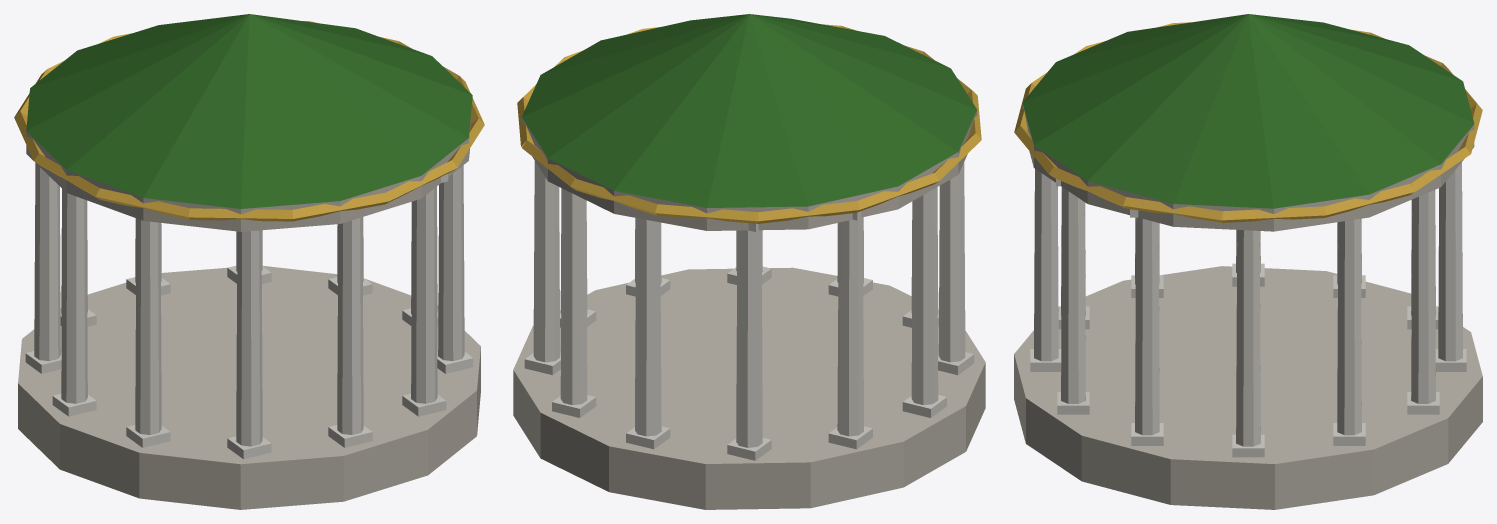
File: centaur_landmark_broken.glb
The picture shows the model from 3 angles, left to right: view 1: azimuth 30°, elevation 25°; view 2: azimuth 150°, elevation 25°; view 3: azimuth 270°, elevation 25°; orthographic projection.
Visible parts, largest first — view 1: centaur_landmark_piece5, centaur_landmark_piece4, centaur_landmark_piece9, centaur_landmark_piece10, centaur_landmark_piece8, centaur_landmark_piece2, centaur_landmark_piece1, centaur_landmark_piece6, centaur_landmark_piece7, centaur_landmark_piece11, centaur_landmark_piece3, centaur_landmark_piece0; view 2: centaur_landmark_piece3, centaur_landmark_piece10, centaur_landmark_piece11, centaur_landmark_piece7, centaur_landmark_piece4, centaur_landmark_piece9, centaur_landmark_piece6, centaur_landmark_piece5, centaur_landmark_piece0, centaur_landmark_piece2, centaur_landmark_piece8, centaur_landmark_piece1 (+2 smaller); view 3: centaur_landmark_piece8, centaur_landmark_piece3, centaur_landmark_piece4, centaur_landmark_piece0, centaur_landmark_piece2, centaur_landmark_piece11, centaur_landmark_piece6, centaur_landmark_piece10, centaur_landmark_piece5, centaur_landmark_piece7, centaur_landmark_piece1, centaur_landmark_piece9.
Part boxes in pixels (x1,y1,x2,y2): centaur_landmark_piece5: (144,67,420,431); centaur_landmark_piece4: (270,272,480,506); centaur_landmark_piece9: (61,72,279,509); centaur_landmark_piece10: (18,73,185,485); centaur_landmark_piece8: (237,14,484,243); centaur_landmark_piece2: (251,170,436,484); centaur_landmark_piece1: (151,16,472,338); centaur_landmark_piece6: (97,289,292,495); centaur_landmark_piece7: (27,253,287,368); centaur_landmark_piece11: (14,15,338,128); centaur_landmark_piece3: (61,21,419,306); centaur_landmark_piece0: (261,213,438,328); centaur_landmark_piece3: (517,56,762,509); centaur_landmark_piece10: (789,119,976,508); centaur_landmark_piece11: (627,31,880,297); centaur_landmark_piece7: (537,381,802,509); centaur_landmark_piece4: (587,222,911,355); centaur_landmark_piece9: (823,93,985,411); centaur_landmark_piece6: (587,324,983,426); centaur_landmark_piece5: (791,18,978,277); centaur_landmark_piece0: (513,214,588,452); centaur_landmark_piece2: (587,217,912,384); centaur_landmark_piece8: (534,14,768,256); centaur_landmark_piece1: (635,15,828,226); centaur_landmark_piece8: (1036,14,1359,374); centaur_landmark_piece3: (1279,83,1482,465); centaur_landmark_piece4: (1014,296,1314,508); centaur_landmark_piece0: (1215,324,1442,509); centaur_landmark_piece2: (1029,141,1378,432); centaur_landmark_piece11: (1272,20,1463,122); centaur_landmark_piece6: (1093,261,1383,418); centaur_landmark_piece10: (1176,19,1411,339); centaur_landmark_piece5: (1014,18,1284,288); centaur_landmark_piece7: (1273,243,1443,467); centaur_landmark_piece1: (1035,14,1280,479); centaur_landmark_piece9: (1058,22,1190,334).
Size of the model in its own units: 2.78 by 2.6 by 2.78.
